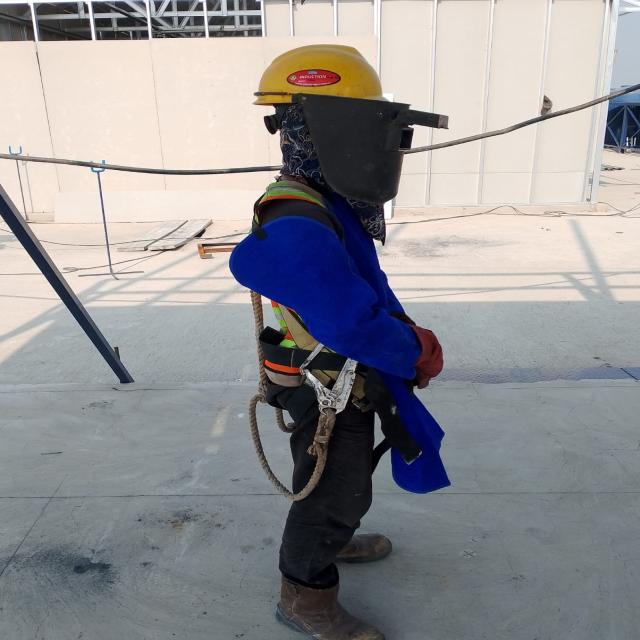gloves: (416, 324, 448, 385)
helmet: (241, 34, 407, 104)
safety_vest: (240, 175, 392, 370)
